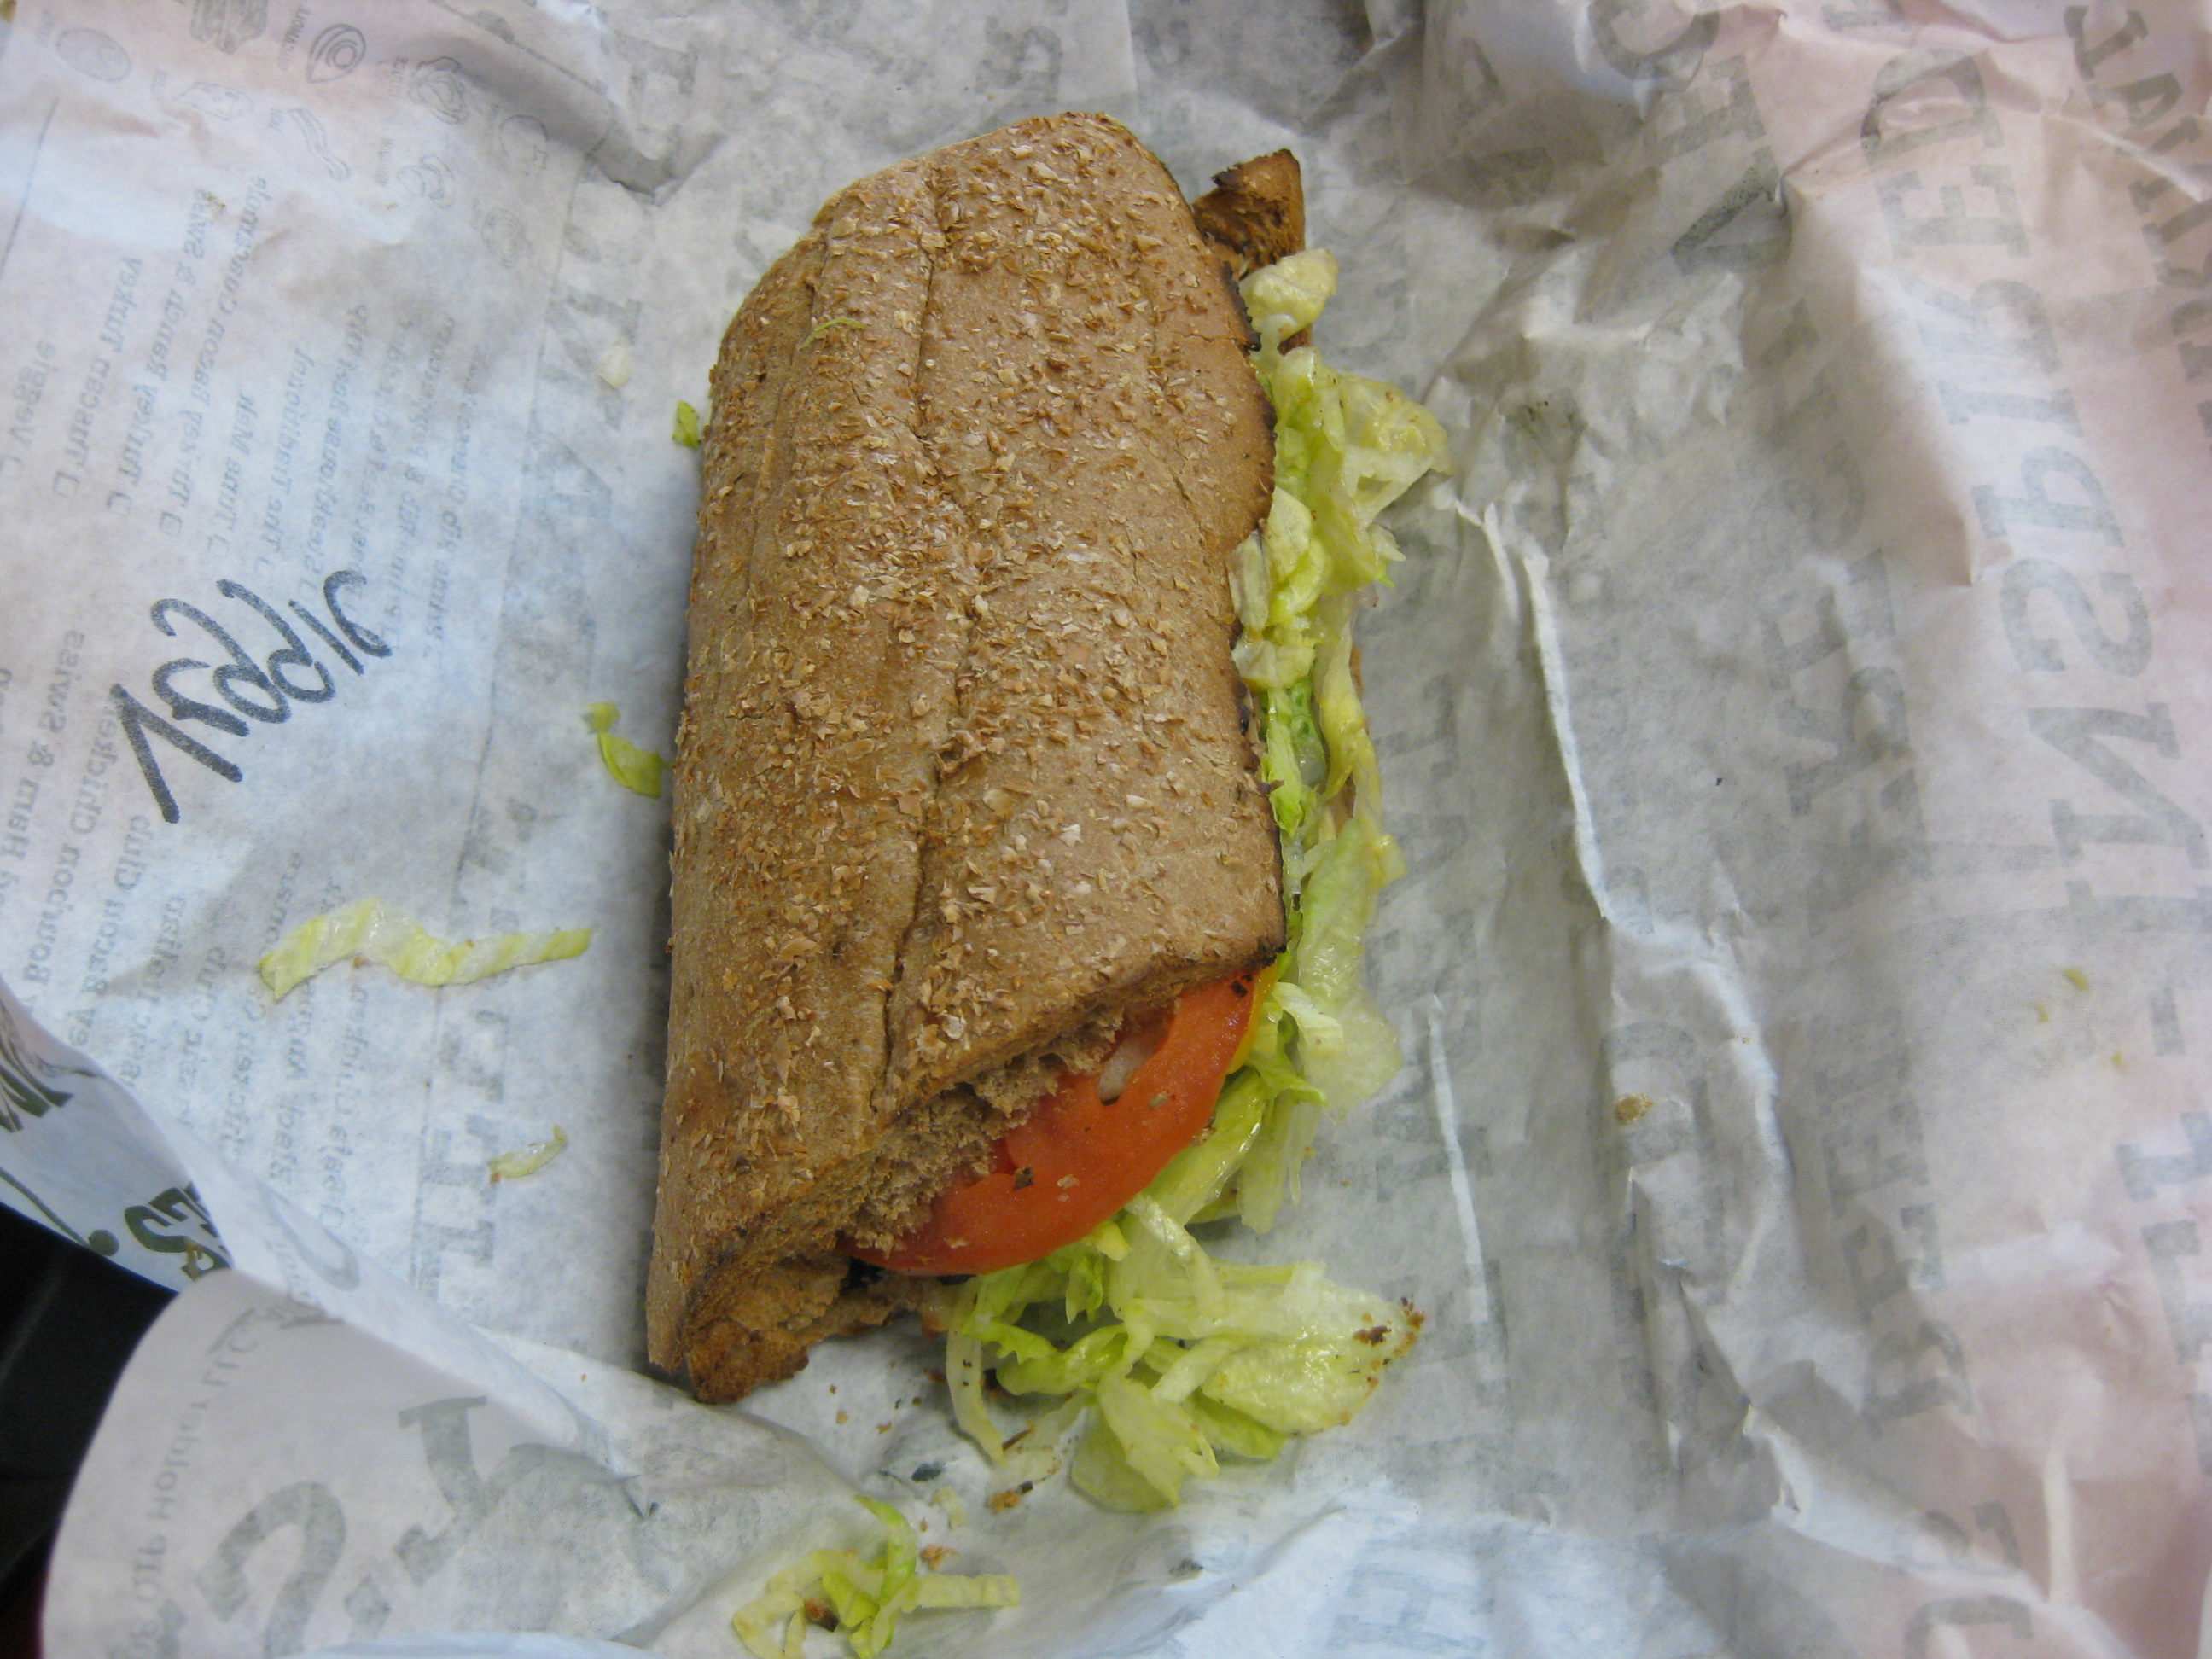sub: (642, 97, 1478, 1437)
